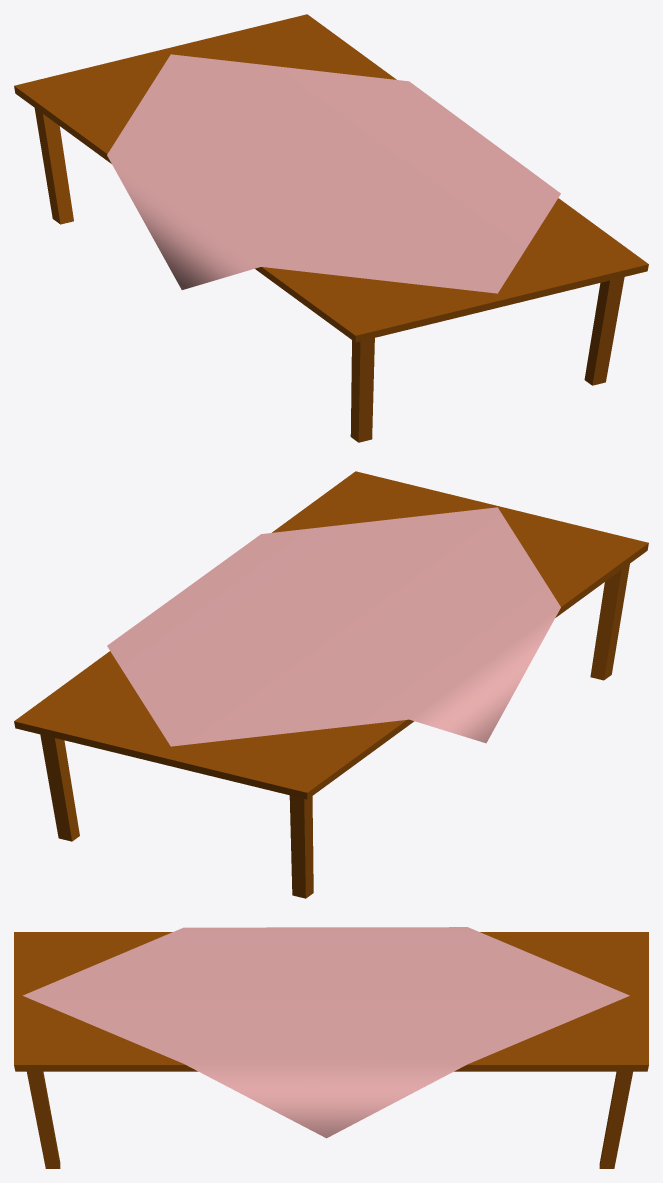
Rendered from mesa.fbx.
The picture shows the model from 3 angles, top to bottom: view 1: azimuth 30°, elevation 25°; view 2: azimuth 150°, elevation 25°; view 3: azimuth 270°, elevation 25°; orthographic projection. The views are drawn at different scales.
Visible parts, largest first — view 1: mantel_geo, mesa_geo; view 2: mantel_geo, mesa_geo; view 3: mantel_geo, mesa_geo.
Boxes of the visible parts, box(x1,y1,x2,y2) form: mantel_geo: box(107, 54, 560, 293); mesa_geo: box(14, 14, 648, 442); mantel_geo: box(107, 507, 560, 746); mesa_geo: box(14, 471, 648, 898); mantel_geo: box(23, 927, 629, 1138); mesa_geo: box(14, 932, 648, 1168).
Bounding box in the file's own units: 156 × 62.28 × 303.
